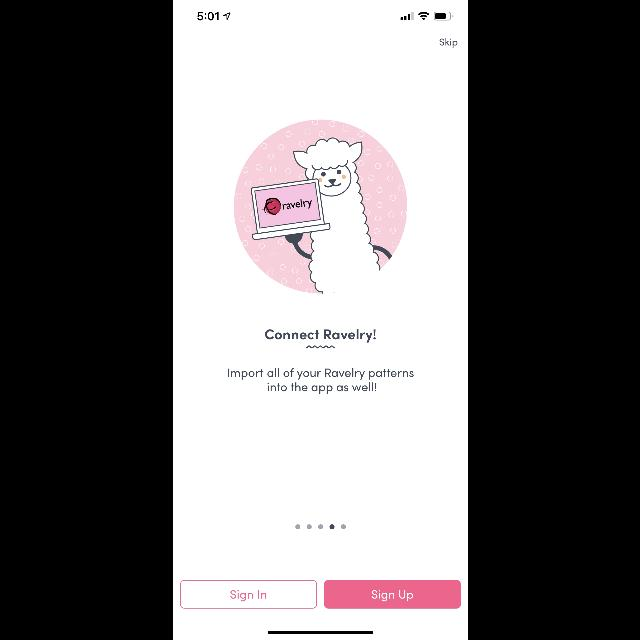image: (234, 120, 406, 294)
pageindicator: (295, 524, 345, 530)
text: (227, 368, 413, 394), (264, 330, 376, 342), (439, 38, 457, 48)
textbutton: (324, 580, 461, 608), (180, 580, 316, 608)
uppertaskbar: (196, 12, 452, 21)
